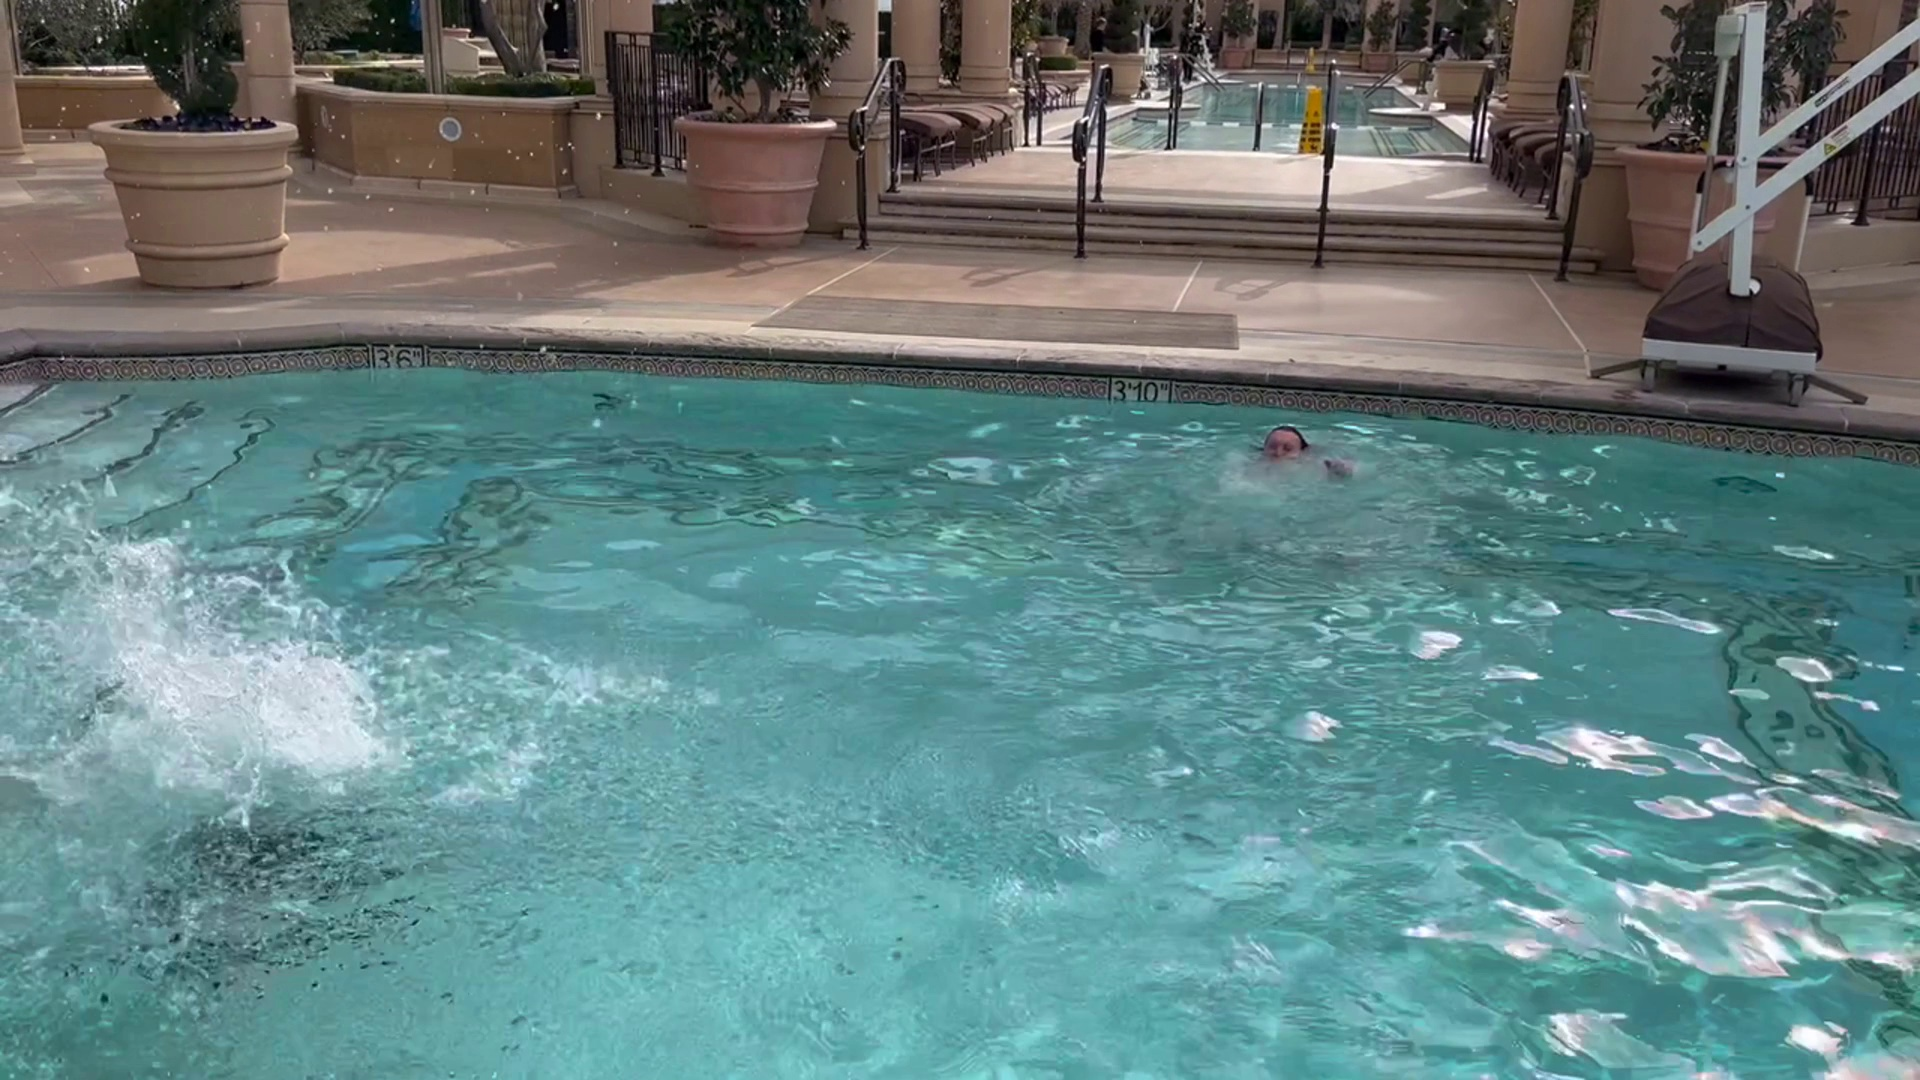danger: (11, 476, 527, 865)
